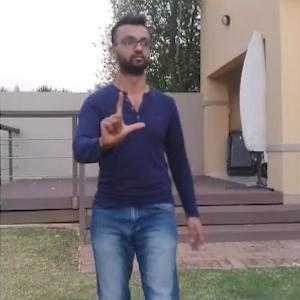land_hand: (95, 87, 150, 151)
